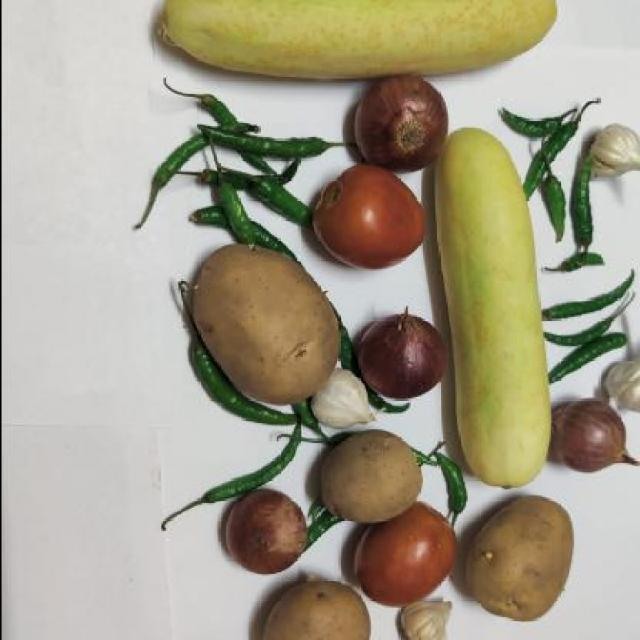Pepper: (146, 110, 325, 193), (547, 272, 636, 388), (528, 97, 589, 248), (435, 455, 467, 520), (536, 250, 612, 275)
garlic: (304, 368, 381, 442), (604, 301, 640, 424), (584, 119, 640, 191), (396, 594, 458, 640)
onion: (342, 70, 449, 172), (350, 309, 452, 402), (220, 487, 308, 579), (551, 397, 640, 475)
potato: (177, 238, 338, 398), (468, 490, 580, 633), (246, 578, 371, 640)
tomato: (306, 165, 434, 272), (352, 509, 462, 611)
